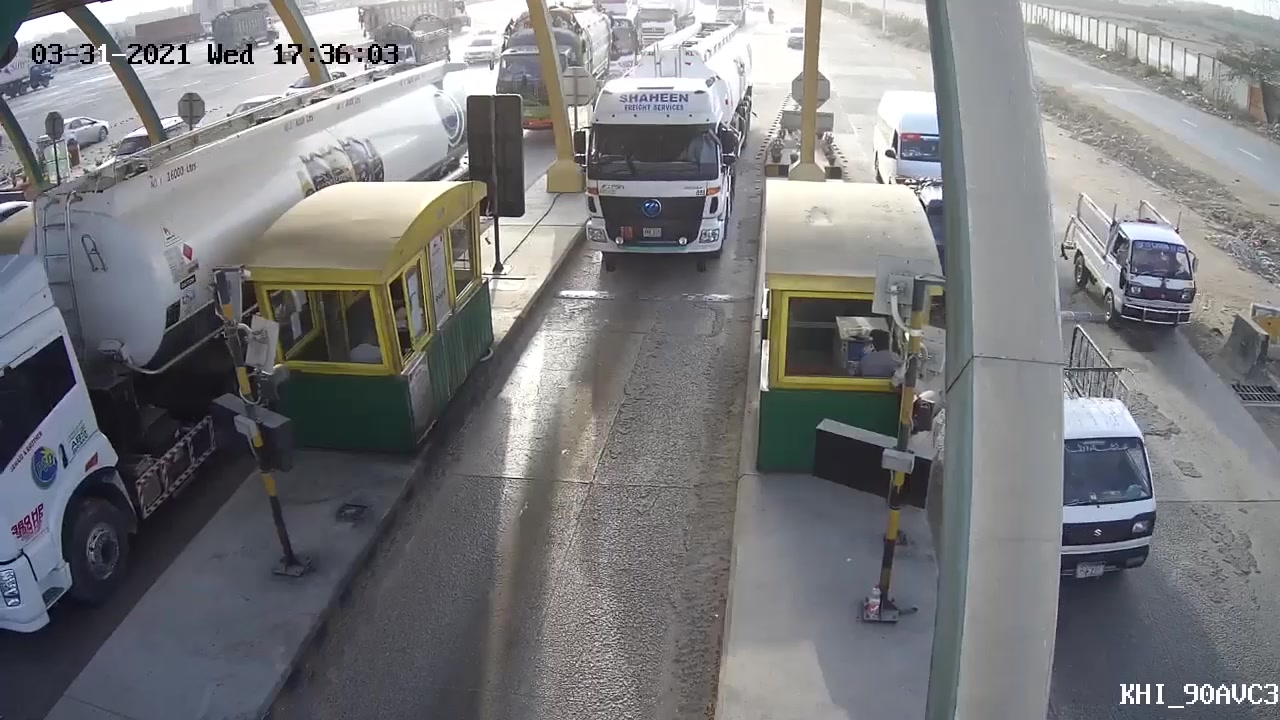F5: (564, 77, 739, 285)
